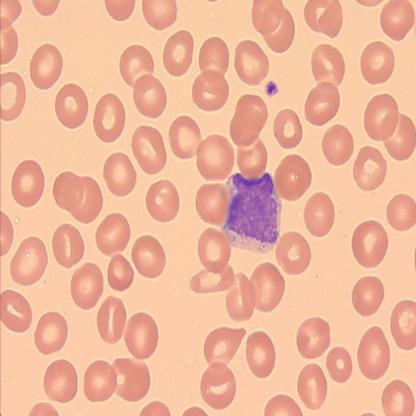Myelocyte: (226, 174, 280, 250)
